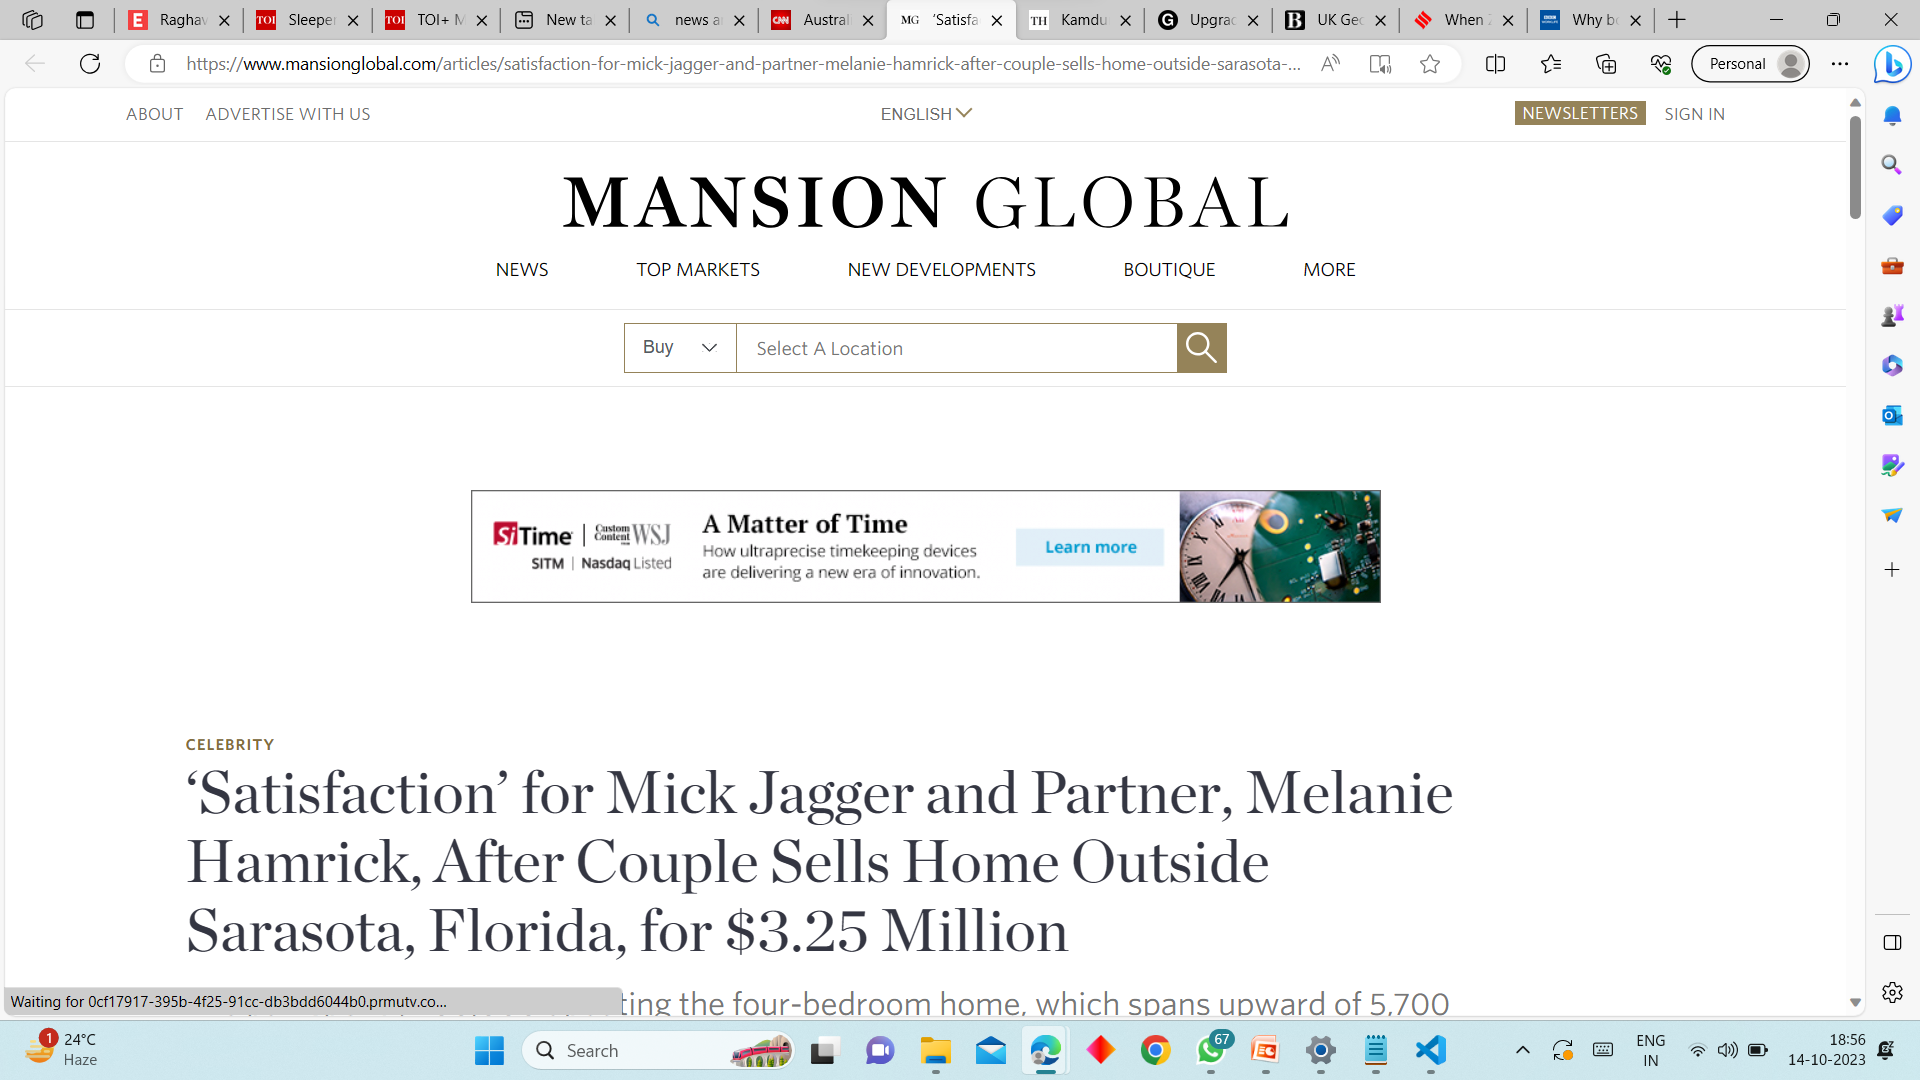Image: (617, 324, 1238, 380)
Paragraph: (177, 758, 1482, 968), (467, 488, 1389, 608), (553, 170, 1308, 235), (202, 90, 389, 132), (841, 255, 1054, 286), (865, 96, 988, 132), (633, 253, 765, 282), (1295, 255, 1375, 289), (1116, 257, 1218, 282), (187, 729, 282, 756), (1659, 99, 1739, 128), (109, 99, 195, 125), (501, 255, 566, 276)
